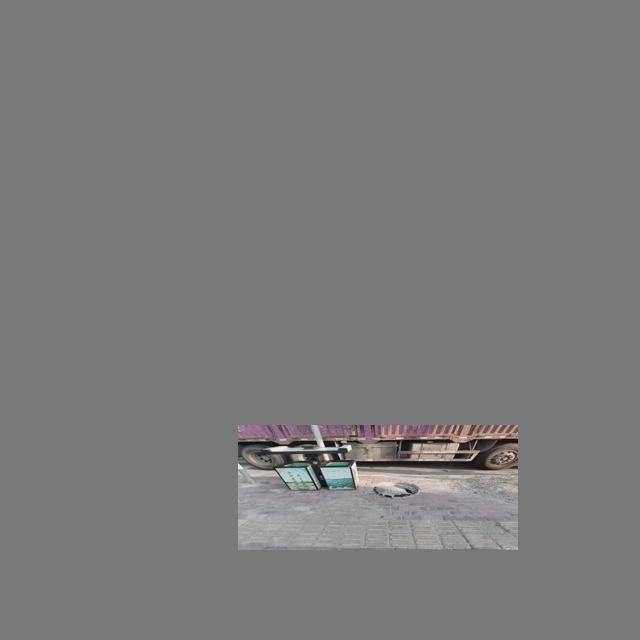broke: (365, 478, 426, 503)
